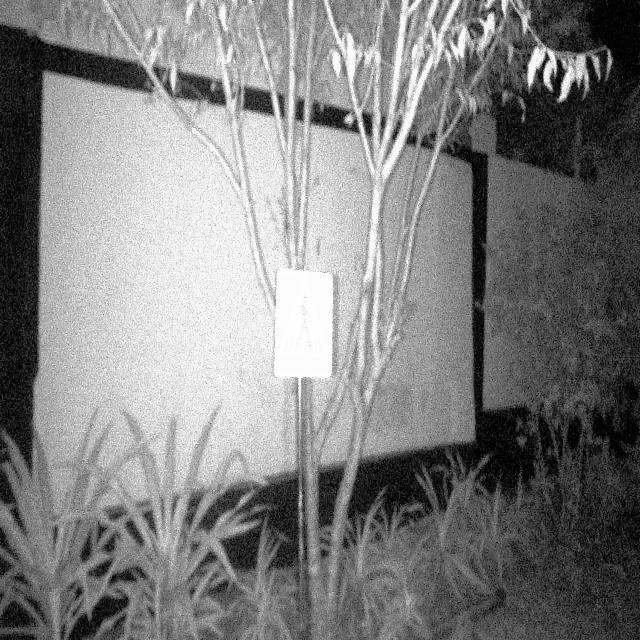Sign: (273, 266, 335, 380)
